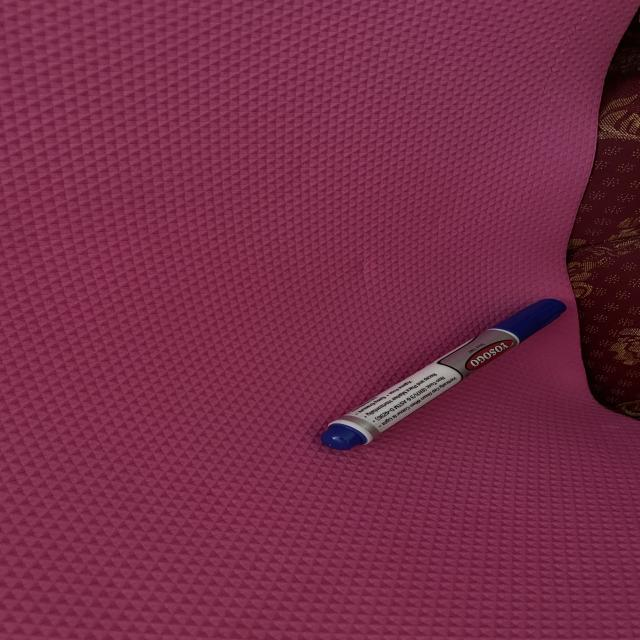marker: (321, 299, 566, 450)
